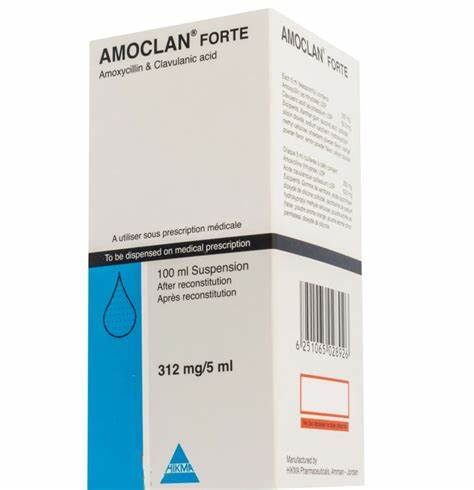Medicine: (74, 6, 376, 490)
